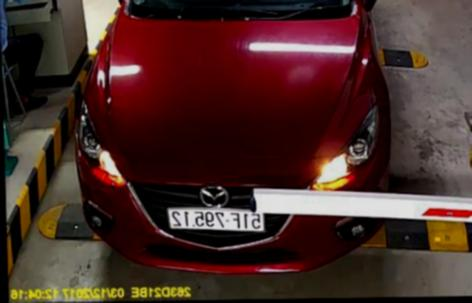License_Plate: (163, 205, 267, 234)
